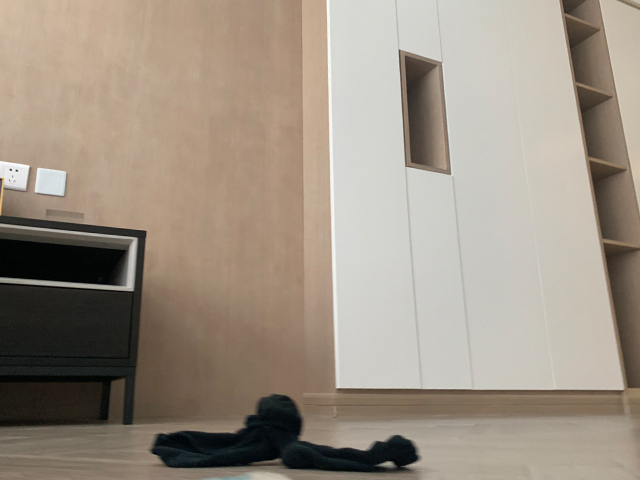cabinet: (301, 1, 640, 423), (1, 214, 148, 428)
socks: (150, 393, 424, 473)
